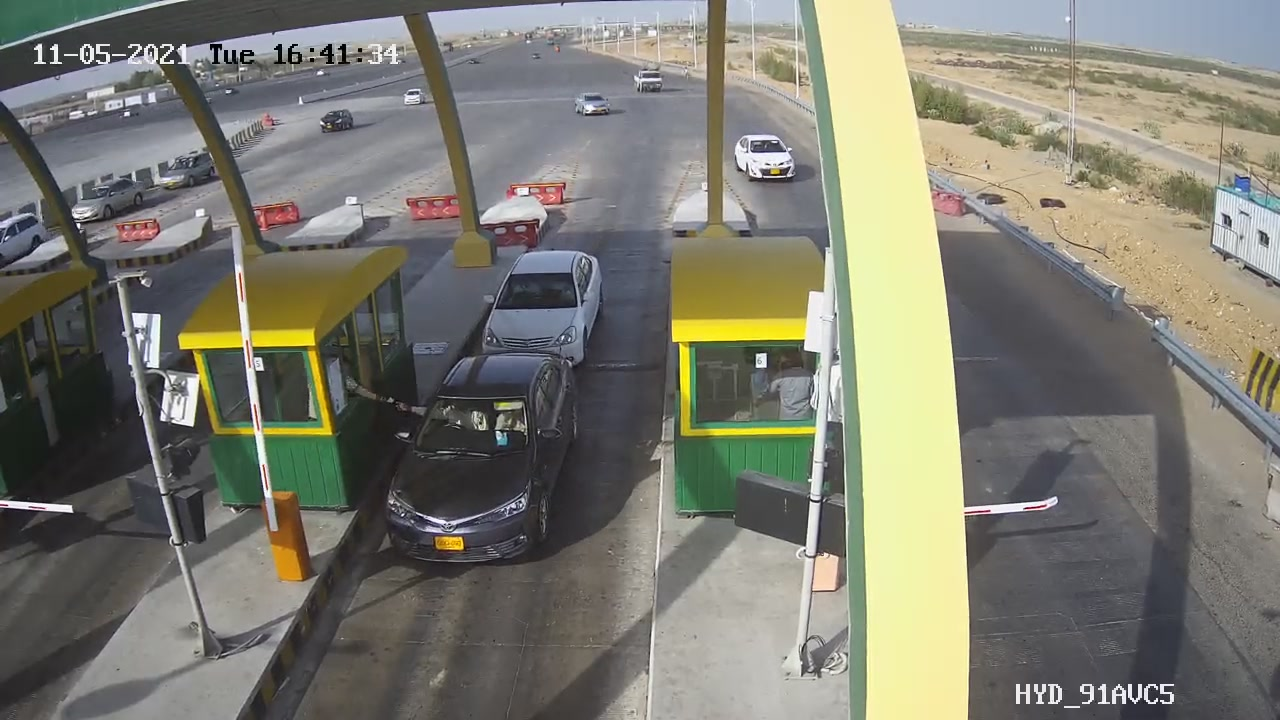F1: (366, 331, 601, 588), (463, 233, 624, 373)
